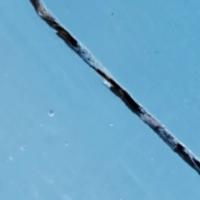crack: (29, 0, 199, 194)
